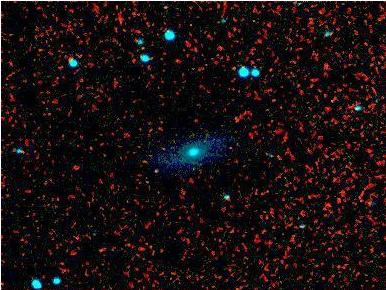star: (221, 105, 251, 135)
